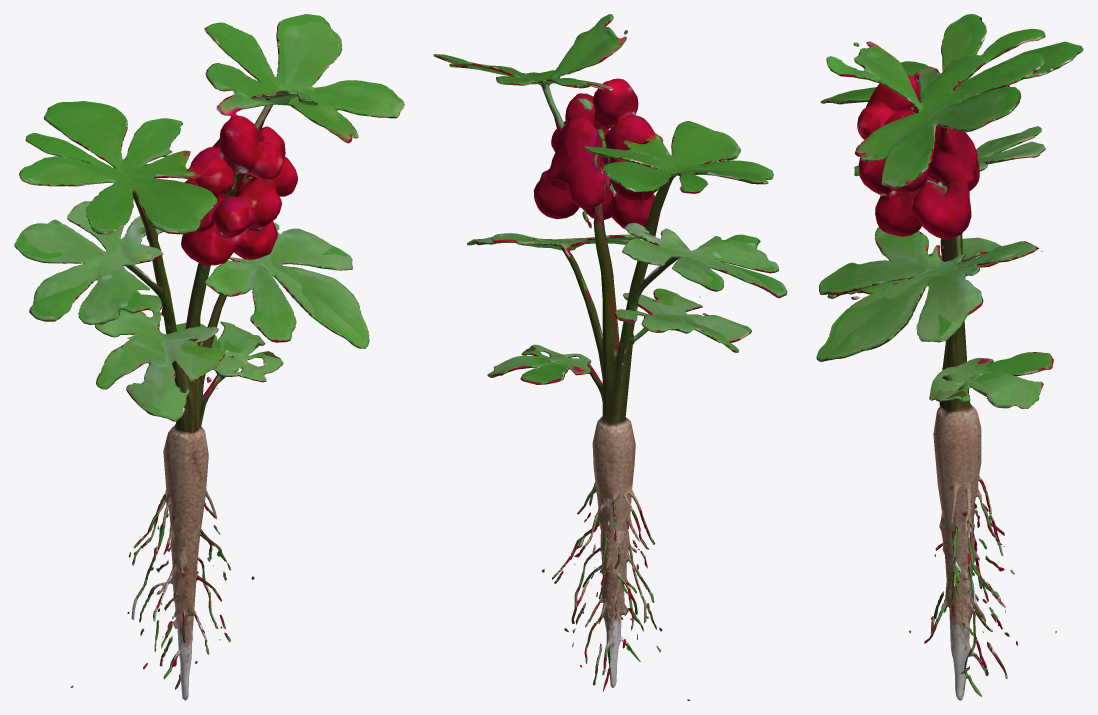
The model's file is ginseng.glb.
3 renders of one model, left to right at view 1: azimuth 30°, elevation 25°; view 2: azimuth 150°, elevation 25°; view 3: azimuth 270°, elevation 25°, orthographic. The views are drawn at different scales.
Visible parts, largest first — view 1: world; view 2: world; view 3: world.
Part boxes in pixels (x1,y1,x2,y2): world: [14, 14, 404, 700]; world: [433, 14, 787, 700]; world: [816, 14, 1083, 700].
Bounding box in the file's own units: 1.17 × 1.99 × 0.71.
Materials: 1 (1 with a texture image).
